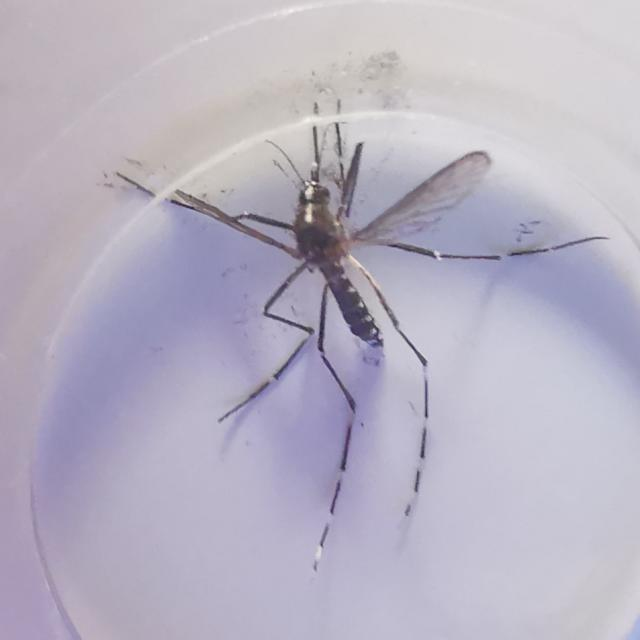albopictus: (126, 79, 576, 534)
